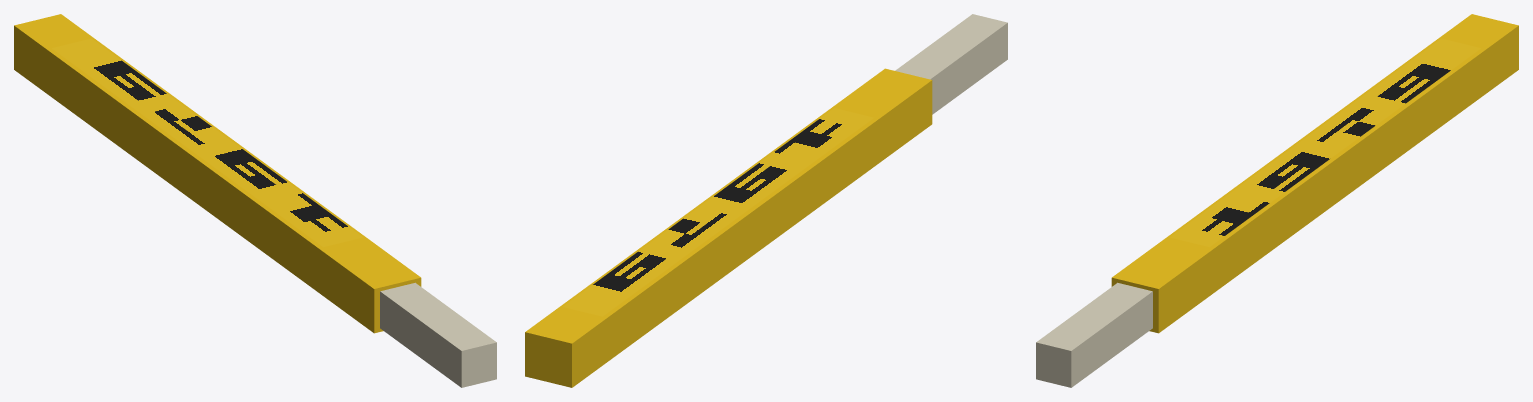
File: bream_tag.glb
3 views of the same model, side by side, from view 1: azimuth 30°, elevation 25°; view 2: azimuth 150°, elevation 25°; view 3: azimuth 330°, elevation 25° (orthographic).
Parts seen in each view (by area): view 1: BreamTag; view 2: BreamTag; view 3: BreamTag.
Part boxes in pixels (<box>): BreamTag: <box>14,14,496,387</box>; BreamTag: <box>525,14,1007,387</box>; BreamTag: <box>1036,14,1518,387</box>.
Size of the model in its own units: 0.004 by 0.0037 by 0.065.
3 materials, 1 textured.
